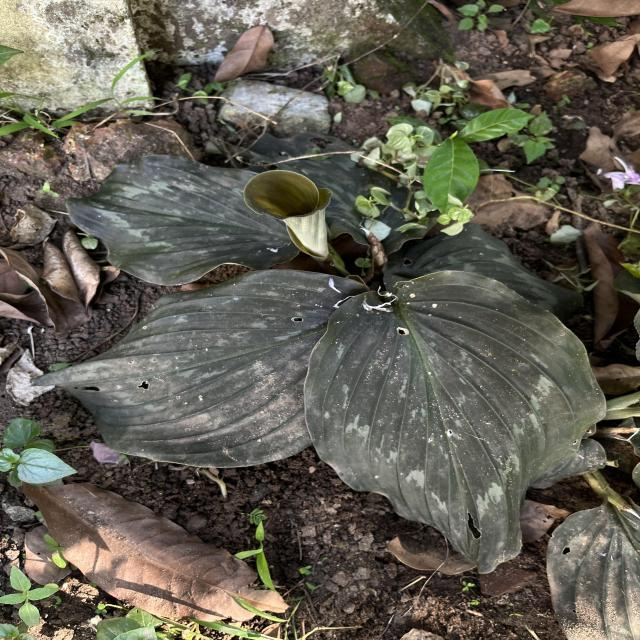Kaempferia galanga linn: (300, 267, 609, 575), (27, 268, 371, 470)
